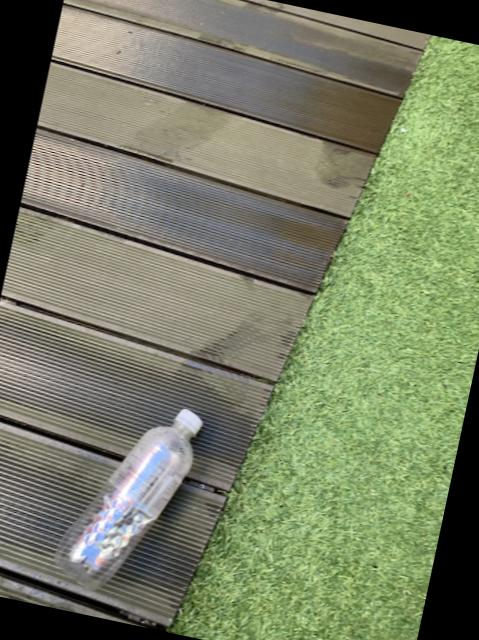plastic: (56, 406, 203, 586)
